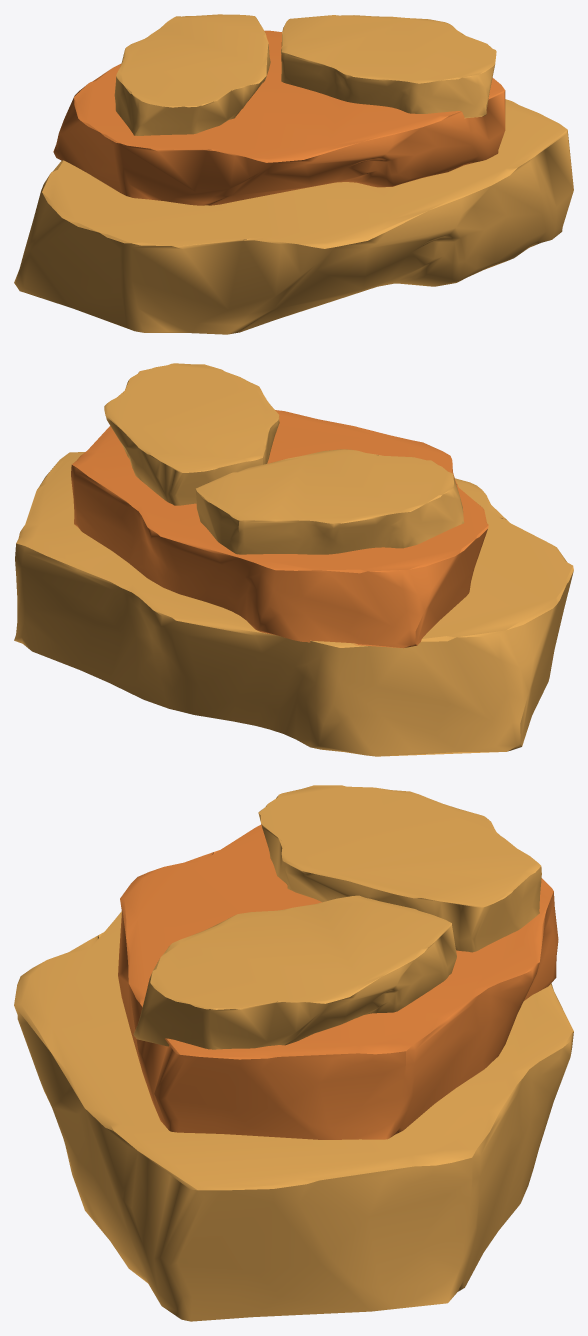
File: JumpingObs.fbx
3 views of the same model, one above another, from view 1: azimuth 30°, elevation 25°; view 2: azimuth 150°, elevation 25°; view 3: azimuth 270°, elevation 25° (orthographic). The views are drawn at different scales.
Parts seen in each view (by area): view 1: collasion4-2, obstacle2, collasion3-2, collasion1-2, collasion2-2; view 2: collasion4-2, obstacle2, collasion1-2, collasion3-2, collasion2-2; view 3: collasion4-2, obstacle2, collasion1-2, collasion3-2, collasion2-2.
Boxes of the visible parts, x1,y1,x2,y2 form: collasion4-2: (14,99,567,334); obstacle2: (42,14,573,334); collasion3-2: (53,30,505,205); collasion1-2: (281,15,496,118); collasion2-2: (115,14,270,135); collasion4-2: (14,452,573,756); obstacle2: (14,414,572,756); collasion1-2: (104,363,279,505); collasion3-2: (72,410,488,647); collasion2-2: (196,449,464,542); collasion4-2: (17,911,573,1321); obstacle2: (14,866,570,1320); collasion1-2: (133,895,456,1049); collasion3-2: (118,824,553,1139); collasion2-2: (258,785,540,952).
Bounding box in the file's own units: 0.9162 × 0.3472 × 0.6435.
